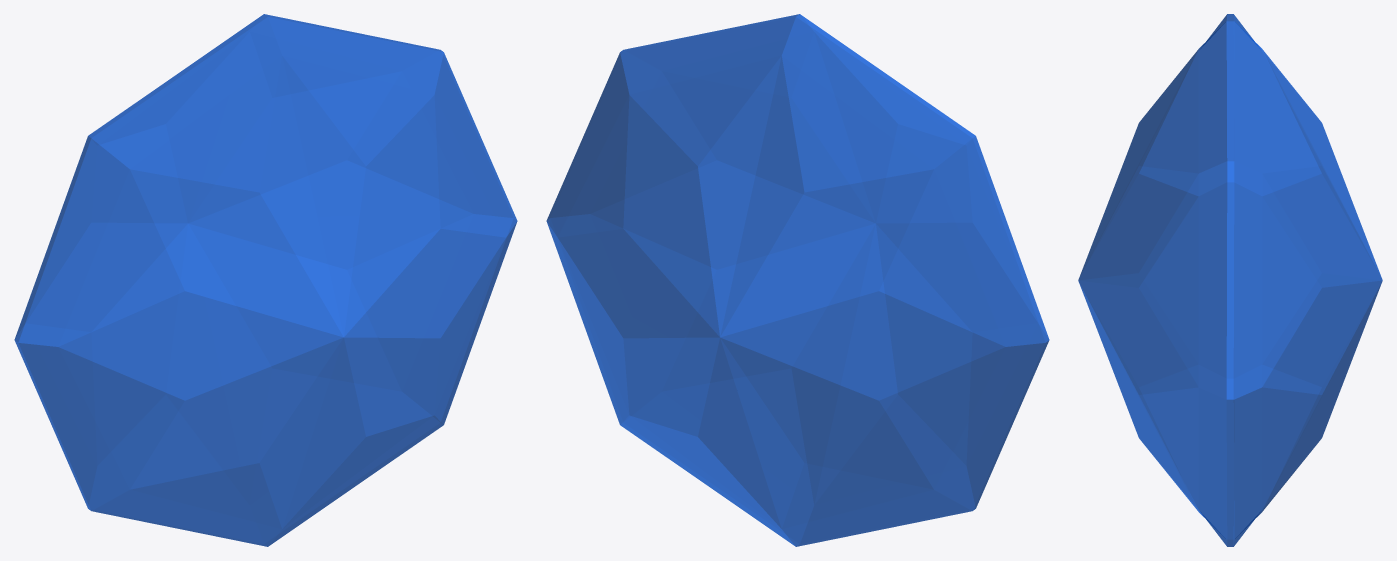
Rendered from rose lazulli.glb.
3 renders of one model, left to right at view 1: azimuth 30°, elevation 25°; view 2: azimuth 150°, elevation 25°; view 3: azimuth 270°, elevation 25°, orthographic. The views are drawn at different scales.
Visible parts, largest first — view 1: Cross Rose; view 2: Cross Rose; view 3: Cross Rose.
Boxes of the visible parts, x1,y1,x2,y2 form: Cross Rose: [14, 14, 517, 546]; Cross Rose: [546, 14, 1049, 546]; Cross Rose: [1078, 14, 1382, 546].
Bounding box in the file's own units: 1.74 × 1.76 × 0.9396.
